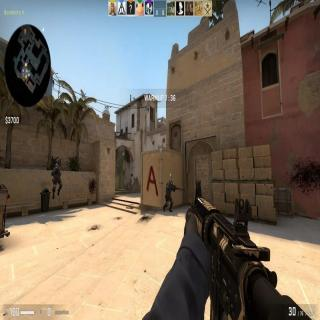CT-Body: (163, 177, 176, 212), (51, 163, 63, 200)
CT-Head: (55, 162, 59, 171), (169, 178, 173, 185)
